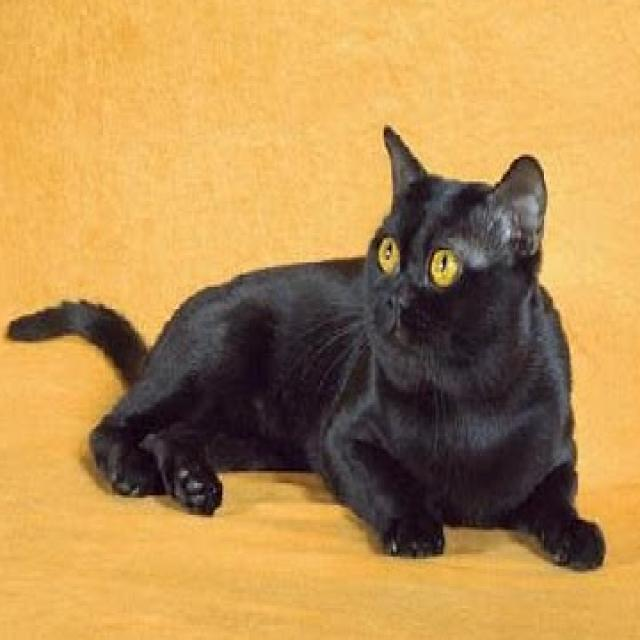Bombay: (3, 122, 609, 574)
